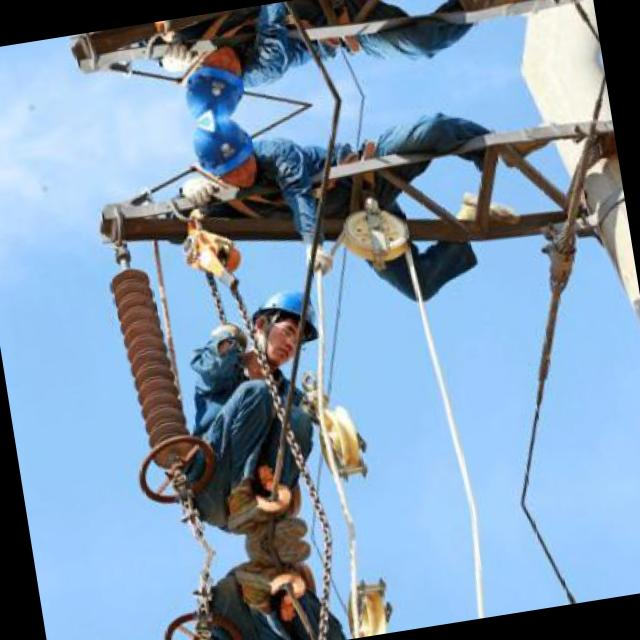helmet: (243, 277, 323, 372), (193, 117, 254, 184), (183, 56, 244, 123)
